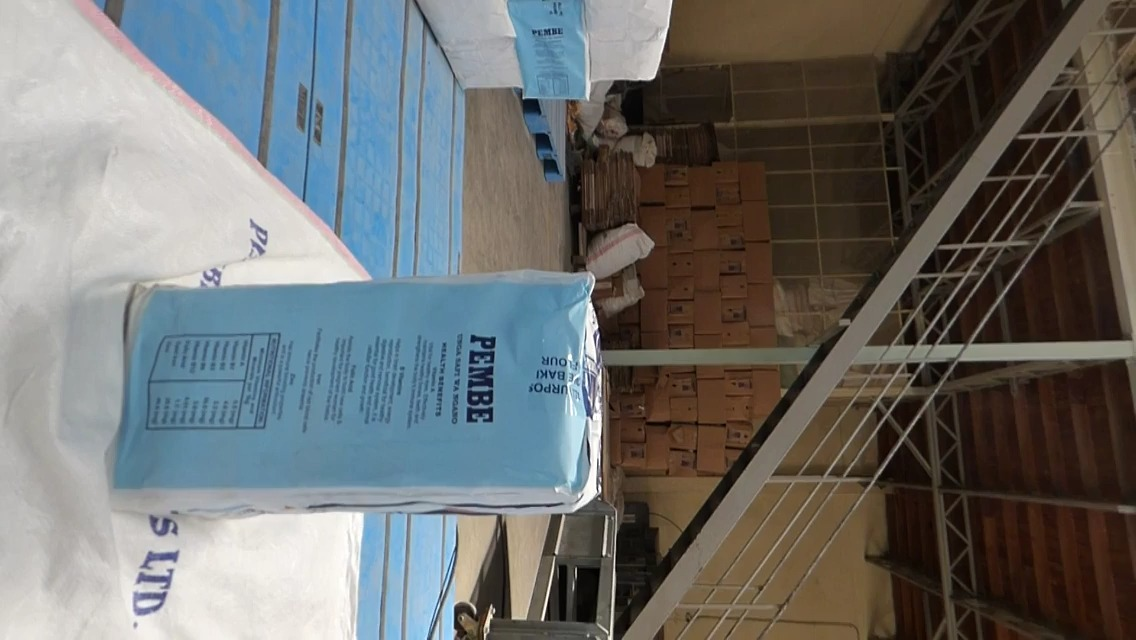wheat_flour_blue_label: (111, 278, 603, 512)
